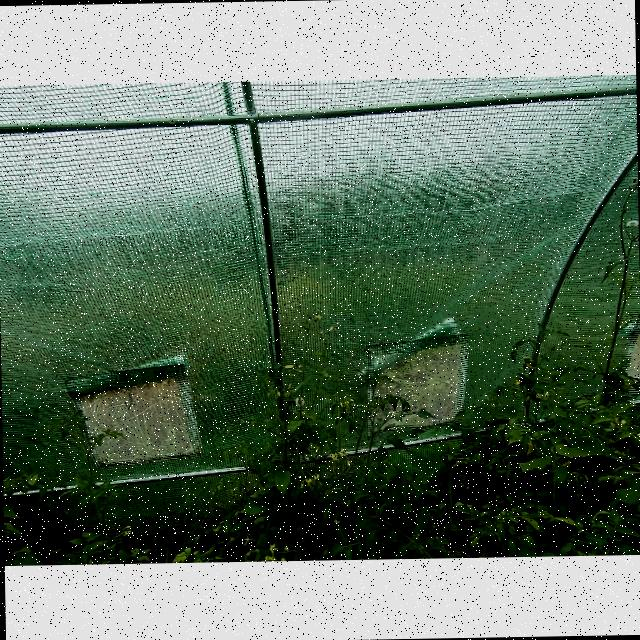Flowers: (526, 439, 536, 456), (300, 478, 312, 488), (268, 542, 278, 554), (325, 452, 338, 461), (524, 358, 534, 369), (244, 536, 254, 546), (338, 447, 346, 456), (264, 554, 276, 560), (534, 390, 543, 398), (282, 544, 290, 552), (338, 401, 348, 406), (312, 474, 319, 481), (283, 364, 295, 368), (274, 389, 280, 397), (514, 378, 522, 384), (332, 518, 339, 524), (278, 555, 286, 560), (298, 364, 302, 372), (545, 392, 550, 398), (287, 382, 291, 389), (348, 398, 355, 401)
